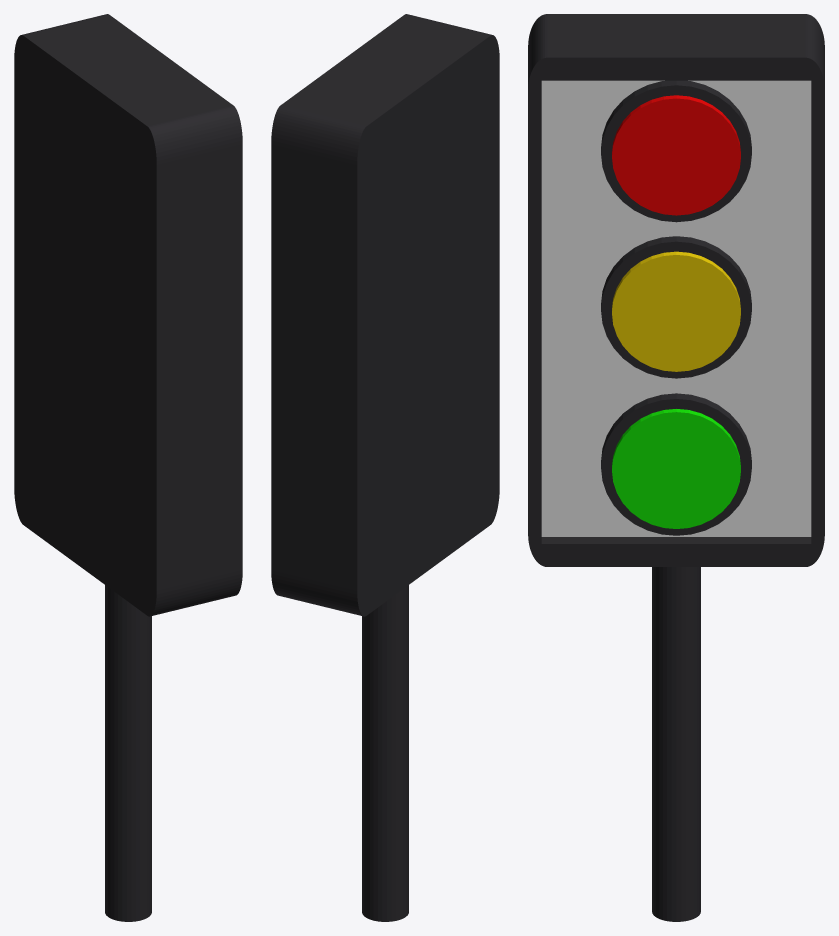
The model's file is Sinal.fbx.
3 views of the same model, side by side, from view 1: azimuth 30°, elevation 25°; view 2: azimuth 150°, elevation 25°; view 3: azimuth 270°, elevation 25° (orthographic). The views are drawn at different scales.
Visible parts, largest first — view 1: Cubo, Cilindro; view 2: Cubo, Cilindro; view 3: Cubo, Cilindro, Cilindro.002, Cilindro.001, Cilindro.003.
Part boxes in pixels (x1,y1,x2,y2): Cubo: [14, 14, 242, 616]; Cilindro: [105, 585, 151, 921]; Cubo: [271, 14, 499, 616]; Cilindro: [362, 585, 408, 921]; Cubo: [528, 14, 824, 566]; Cilindro: [652, 567, 700, 921]; Cilindro.002: [601, 236, 751, 378]; Cilindro.001: [601, 393, 751, 535]; Cilindro.003: [601, 80, 751, 222].
Size of the model in its own units: 72.33 by 651 by 200.
